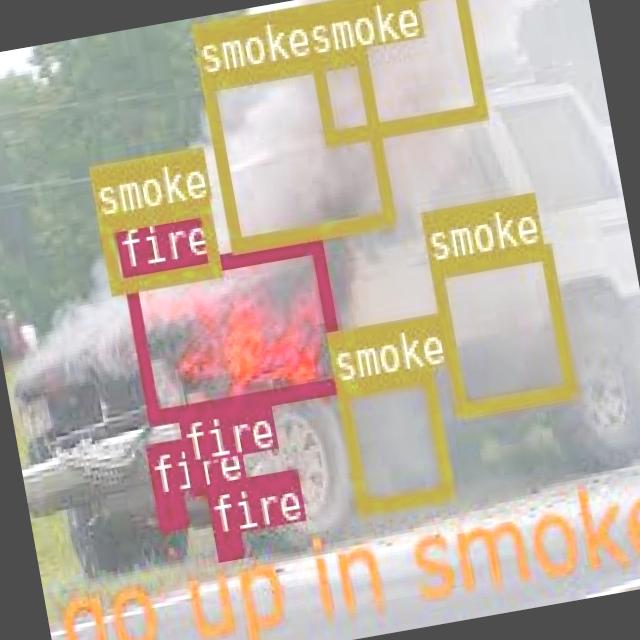fire: (120, 236, 346, 424), (152, 490, 185, 528), (212, 530, 241, 559), (184, 461, 204, 493)
smoke: (200, 48, 393, 250), (298, 0, 484, 144), (426, 242, 573, 414), (333, 366, 451, 514), (97, 196, 218, 291)
